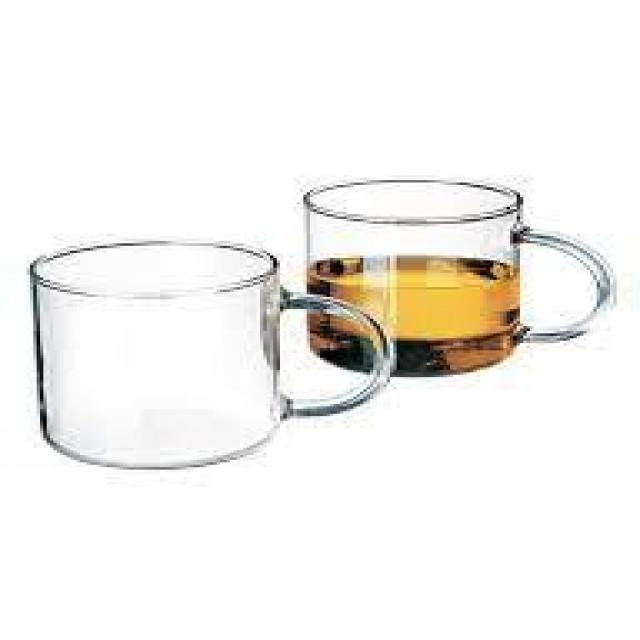non-organic waste: (20, 235, 400, 468), (290, 174, 623, 381)
